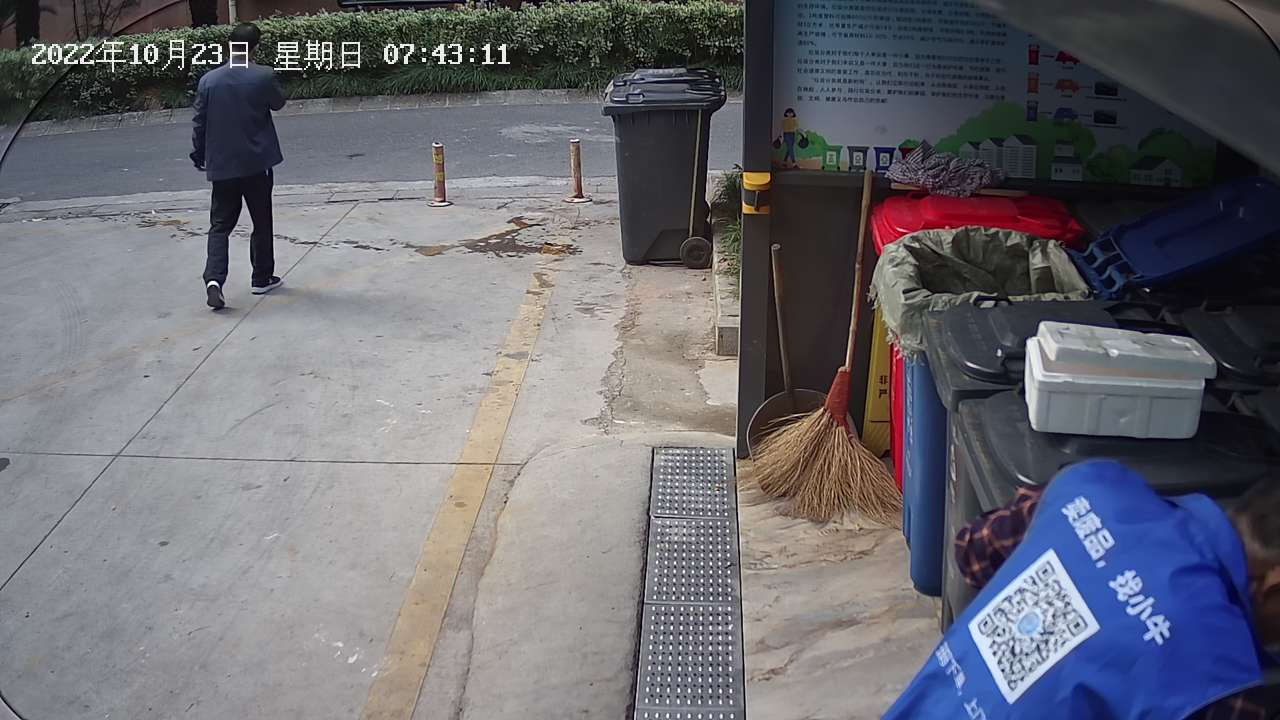person: (187, 20, 291, 312)
worker: (871, 440, 1280, 719)
